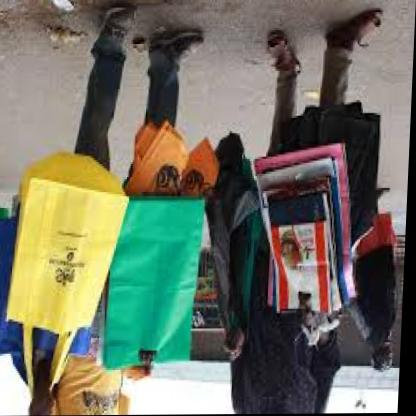Plastic: (0, 128, 206, 399), (209, 111, 408, 344)
